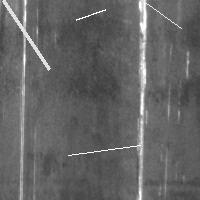scratches: (0, 0, 54, 74), (133, 1, 151, 200), (16, 1, 29, 200), (63, 140, 145, 160), (137, 0, 186, 33), (71, 5, 110, 25)
